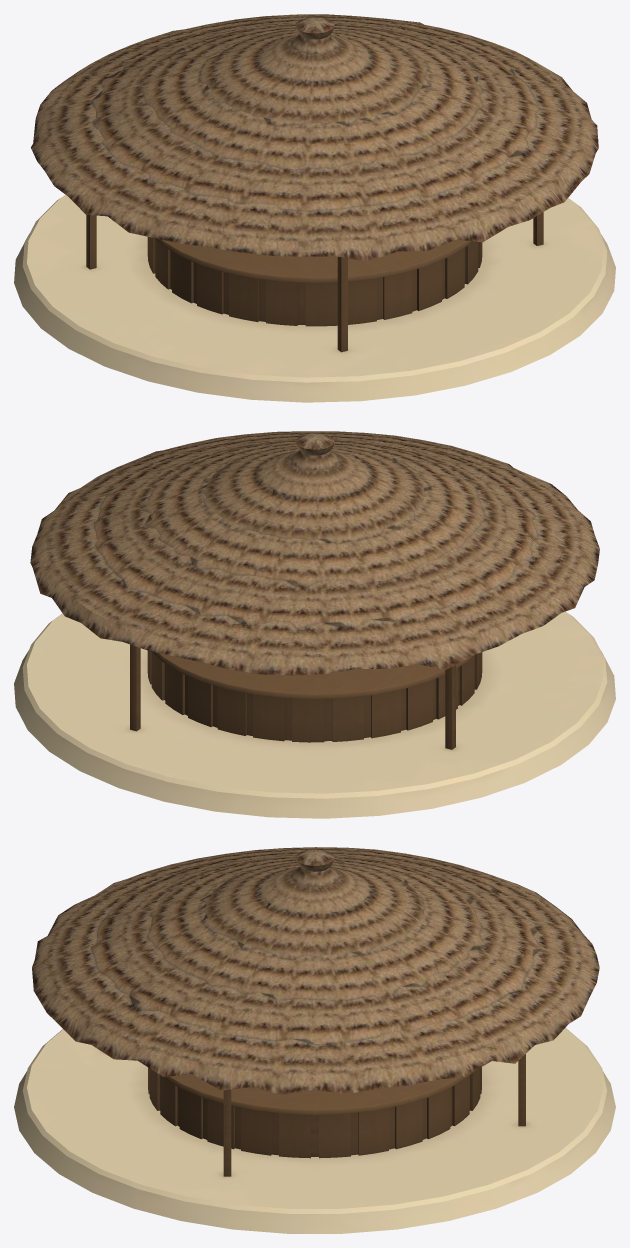
The model's file is island_bar.glb.
The picture shows the model from 3 angles, top to bottom: view 1: azimuth 30°, elevation 25°; view 2: azimuth 150°, elevation 25°; view 3: azimuth 270°, elevation 25°; orthographic projection.
Visible parts, largest first — view 1: island_bar; view 2: island_bar; view 3: island_bar.
Part boxes in pixels (bbox=[...]): island_bar: bbox=[14, 14, 615, 402]; island_bar: bbox=[14, 431, 615, 818]; island_bar: bbox=[14, 847, 615, 1233].
Bounding box in the file's own units: 11.65 × 5.45 × 11.7.
1 material, 1 textured.
